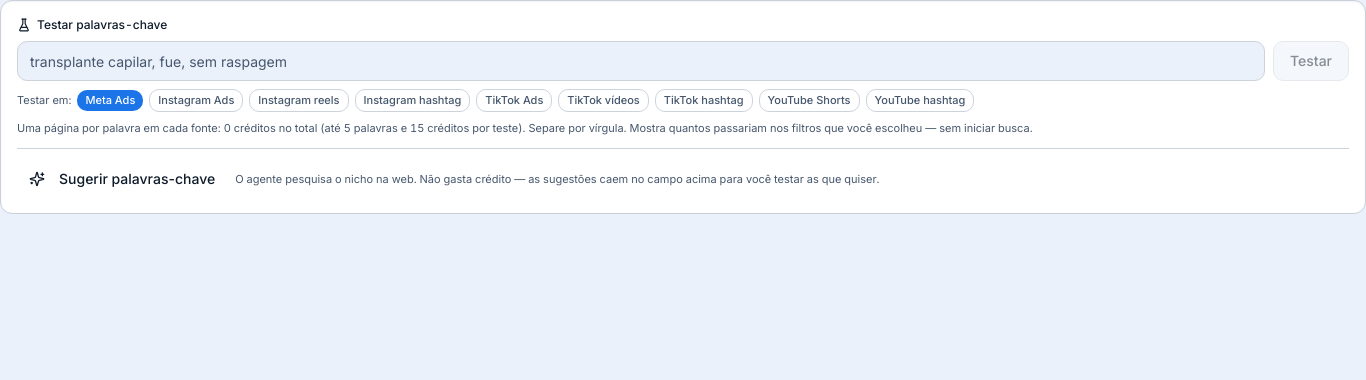
Test case: KeywordProbe › avisa quando o agente NÃO conseguiu pesquisar — os termos viram palpite
Click the button "Sugerir palavras-chave". click: (122, 179)
box: x1=17 y1=161 x2=227 y2=197
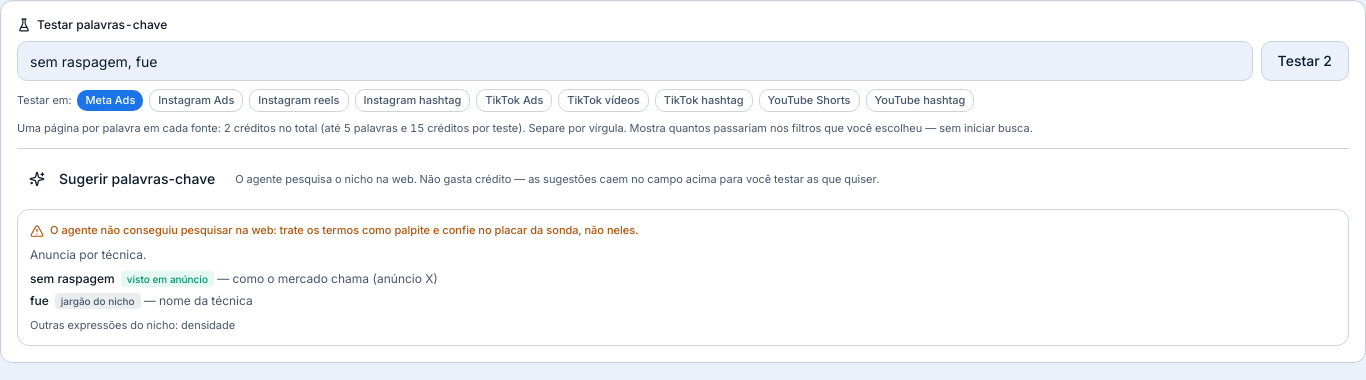
Result: the text "não conseguiu pesquisar na web" is shown at x1=50 y1=223 x2=638 y2=237
